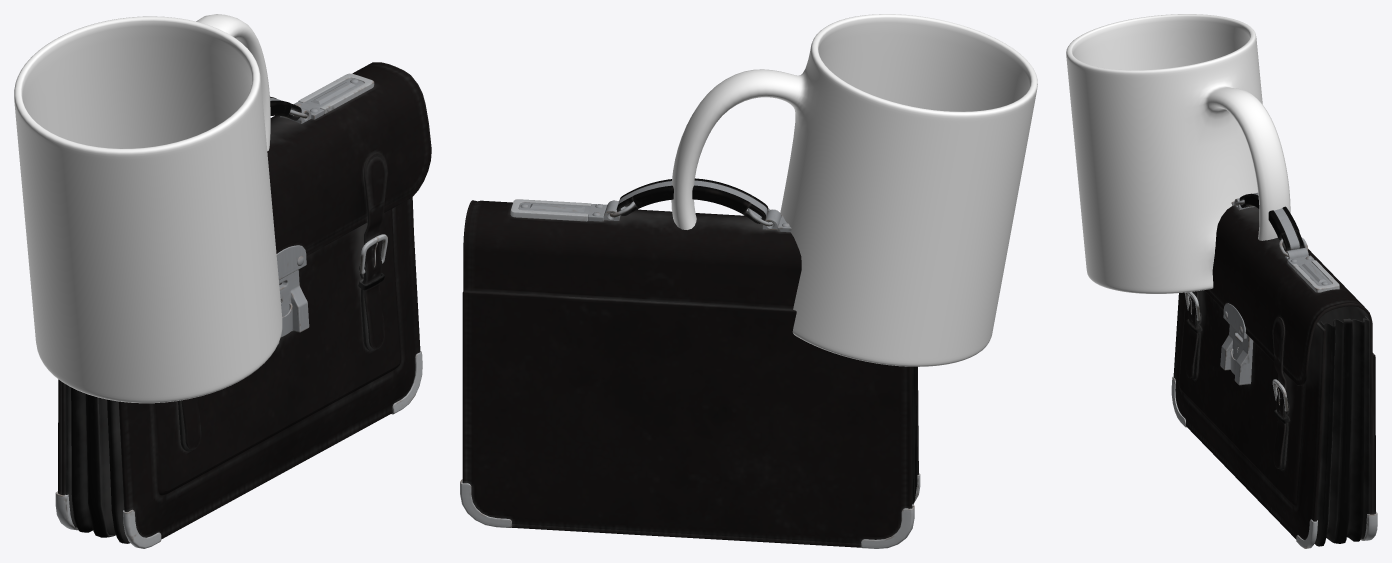
Rendered from vest.glb.
The picture shows the model from 3 angles, left to right: view 1: azimuth 30°, elevation 25°; view 2: azimuth 150°, elevation 25°; view 3: azimuth 270°, elevation 25°; orthographic projection. The views are drawn at different scales.
Parts seen in each view (by area): view 1: grip_neg, anchor_pos; view 2: anchor_pos, grip_neg; view 3: anchor_pos, grip_neg.
Part boxes in pixels (x1,y1,x2,y2): grip_neg: (14, 14, 282, 403); anchor_pos: (55, 62, 431, 548); anchor_pos: (460, 178, 920, 548); grip_neg: (671, 14, 1037, 366); anchor_pos: (1171, 192, 1377, 548); grip_neg: (1066, 14, 1290, 293).
Size of the model in its own units: 0.2083 by 0.201 by 0.1472.
Materials: 2 (1 with a texture image).
